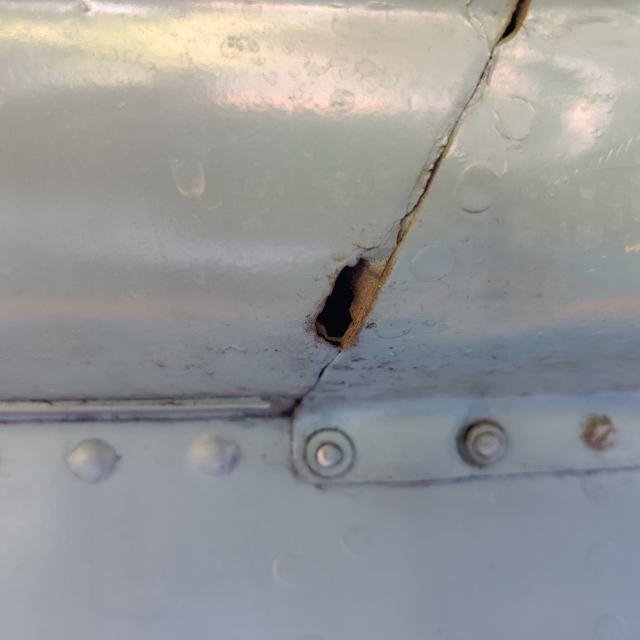Crack: (304, 251, 390, 353)
